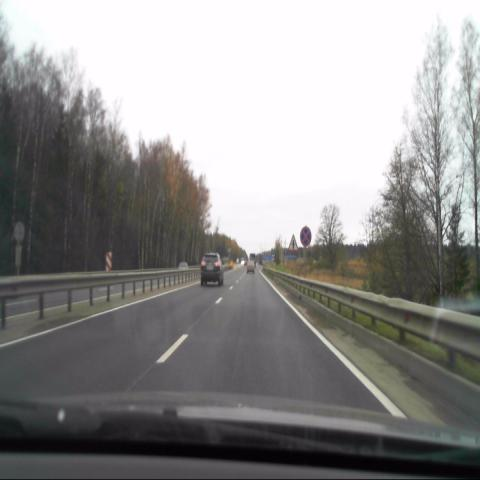2_3: (288, 234, 298, 253)
3_27: (300, 226, 311, 248)
